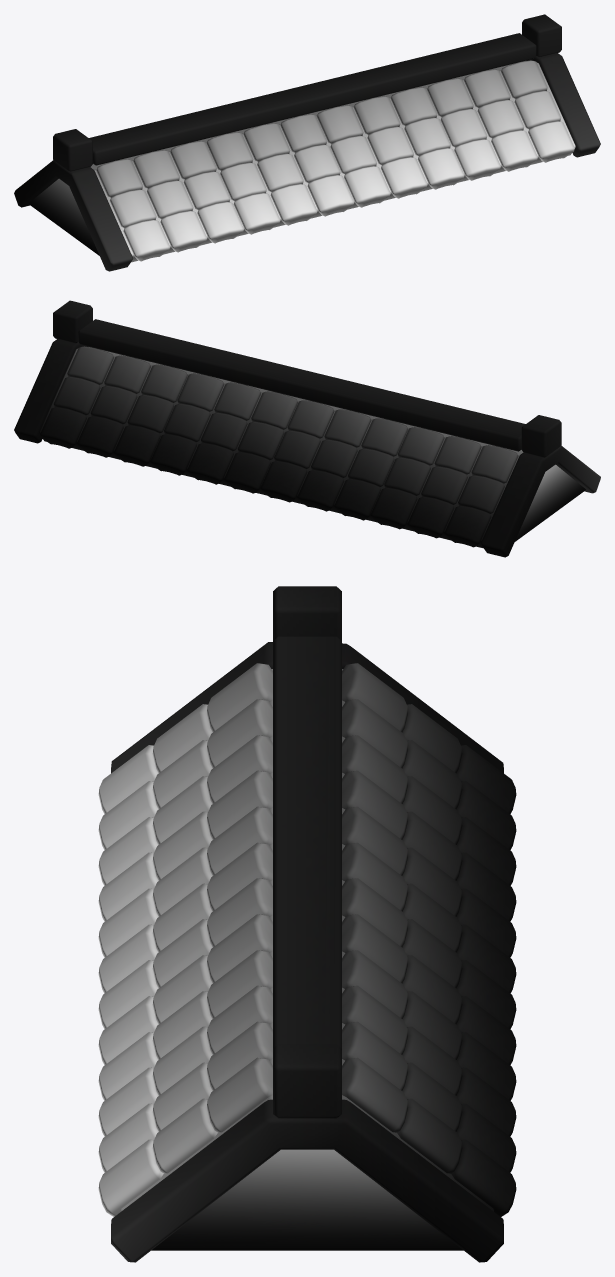
File: SM_Brick_Roof_05.fbx
The picture shows the model from 3 angles, top to bottom: view 1: azimuth 30°, elevation 25°; view 2: azimuth 150°, elevation 25°; view 3: azimuth 270°, elevation 25°; orthographic projection. The views are drawn at different scales.
Visible parts, largest first — view 1: SM_Brick_Roof_05; view 2: SM_Brick_Roof_05; view 3: SM_Brick_Roof_05.
Boxes of the visible parts, x1,y1,x2,y2 form: SM_Brick_Roof_05: (14,14,600,271); SM_Brick_Roof_05: (14,300,600,557); SM_Brick_Roof_05: (98,586,516,1262).
Size of the model in its own units: 3.02 by 0.5857 by 1.11.
